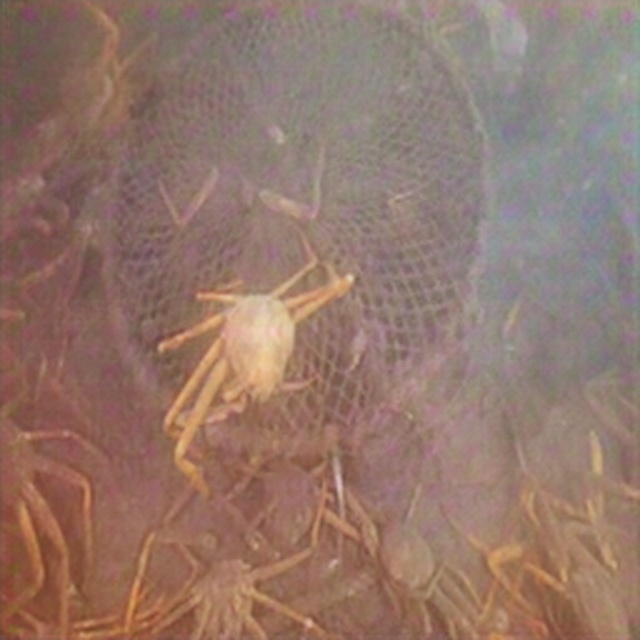mine: (101, 0, 489, 458)
